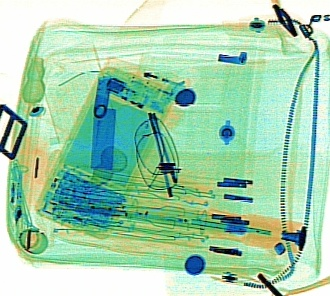lighter: (103, 56, 186, 98), (106, 76, 165, 117)
